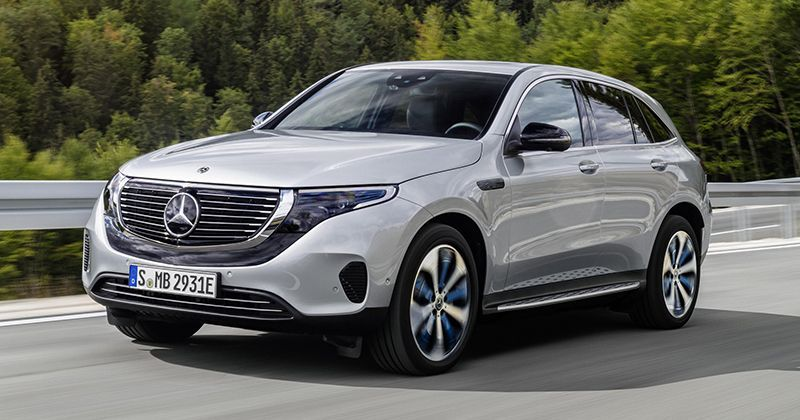pickup: (76, 56, 715, 375)
